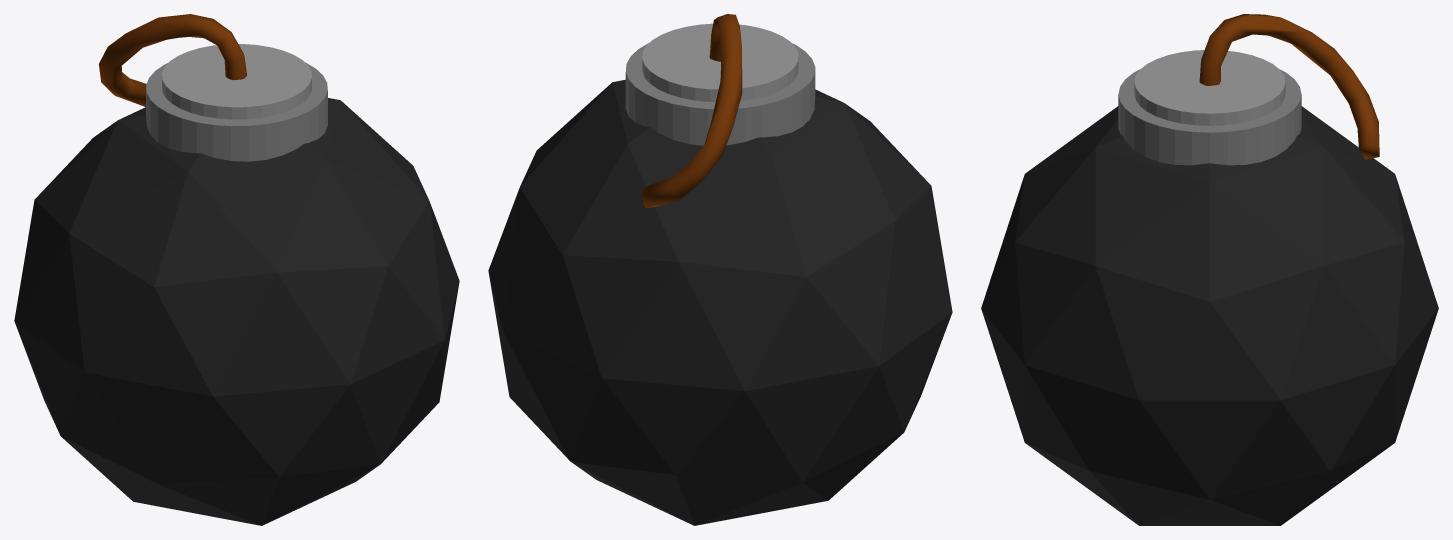
Rendered from Bomb_1.glb.
3 views of the same model, side by side, from view 1: azimuth 30°, elevation 25°; view 2: azimuth 150°, elevation 25°; view 3: azimuth 270°, elevation 25° (orthographic). The views are drawn at different scales.
Parts seen in each view (by area): view 1: BézierCurve; view 2: BézierCurve; view 3: BézierCurve.
Part boxes in pixels (x1=…): BézierCurve: x1=14, y1=14, x2=459, y2=525; BézierCurve: x1=488, y1=14, x2=952, y2=525; BézierCurve: x1=981, y1=14, x2=1438, y2=525.
Bounding box in the file's own units: 1.9 × 2.35 × 2.
